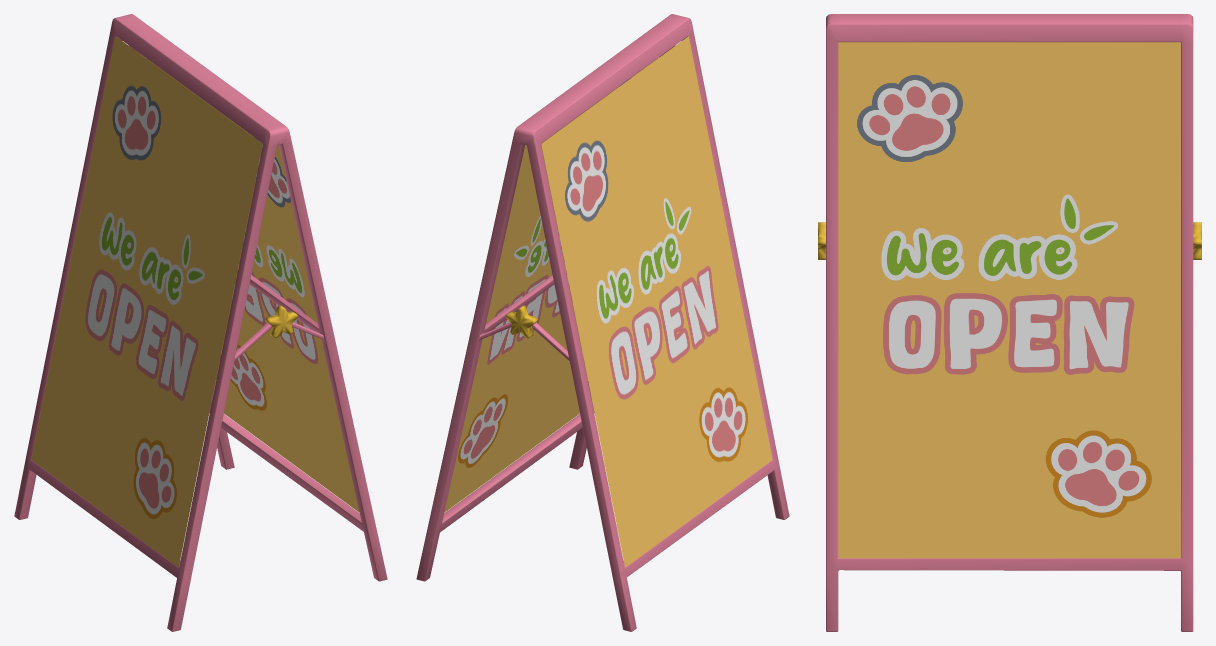
The model's file is astand.fbx.
3 views of the same model, side by side, from view 1: azimuth 30°, elevation 25°; view 2: azimuth 150°, elevation 25°; view 3: azimuth 270°, elevation 25° (orthographic). The views are drawn at different scales.
Parts seen in each view (by area): view 1: Cube.001, Cube, Circle; view 2: Cube.001, Cube, Circle; view 3: Cube.001, Cube, Circle.
Boxes of the visible parts, <box> form: Cube.001: <box>31,36,359,567</box>; Cube: <box>14,14,387,631</box>; Circle: <box>265,305,297,338</box>; Cube.001: <box>444,36,772,567</box>; Cube: <box>416,14,789,631</box>; Circle: <box>505,305,538,338</box>; Cube.001: <box>838,42,1180,558</box>; Cube: <box>826,14,1193,631</box>; Circle: <box>818,222,1201,259</box>.
Bounding box in the file's own units: 49.44 × 104 × 65.61.
3 materials, 1 textured.
